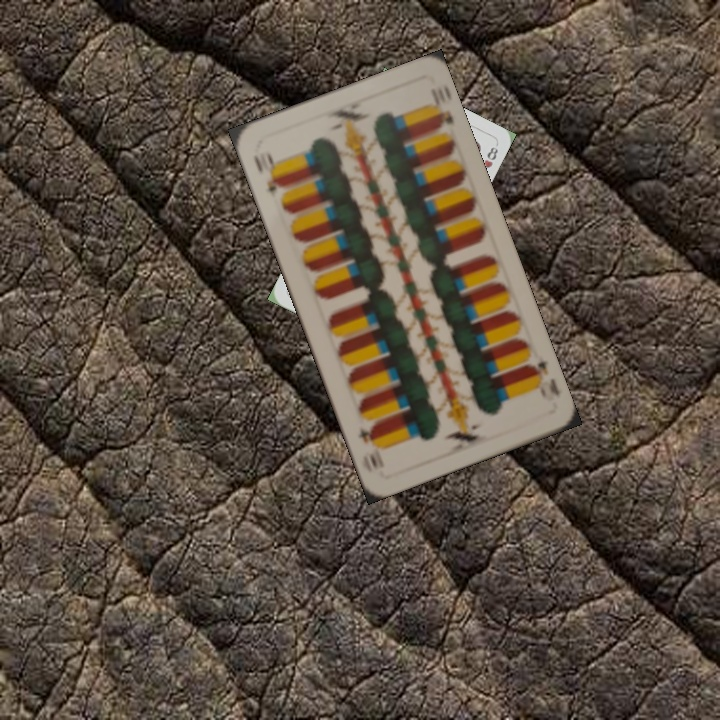E10: (522, 357, 562, 404), (249, 146, 286, 195)
